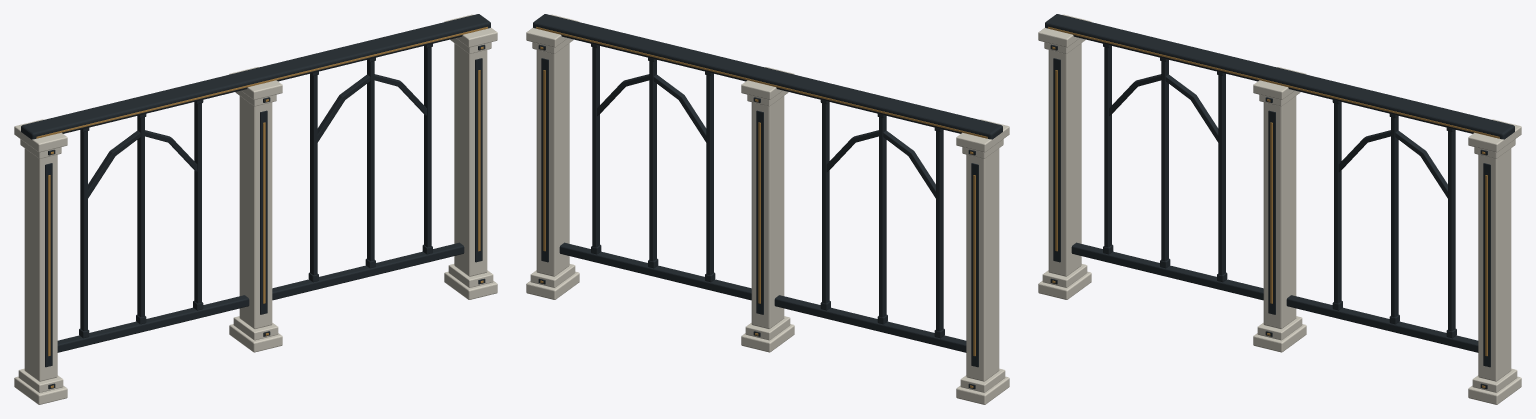
The model's file is SM_Aurelion_KIT_Z10Guardrail_1.fbx.
The picture shows the model from 3 angles, left to right: view 1: azimuth 30°, elevation 25°; view 2: azimuth 150°, elevation 25°; view 3: azimuth 330°, elevation 25°; orthographic projection.
Visible parts, largest first — view 1: SM_Aurelion_KIT_Z10Guardrail_1; view 2: SM_Aurelion_KIT_Z10Guardrail_1; view 3: SM_Aurelion_KIT_Z10Guardrail_1.
Part boxes in pixels (x1=…): SM_Aurelion_KIT_Z10Guardrail_1: x1=14, y1=14, x2=497, y2=404; SM_Aurelion_KIT_Z10Guardrail_1: x1=526, y1=14, x2=1009, y2=404; SM_Aurelion_KIT_Z10Guardrail_1: x1=1038, y1=14, x2=1521, y2=404.
Size of the model in its own units: 234 by 22 by 130.
